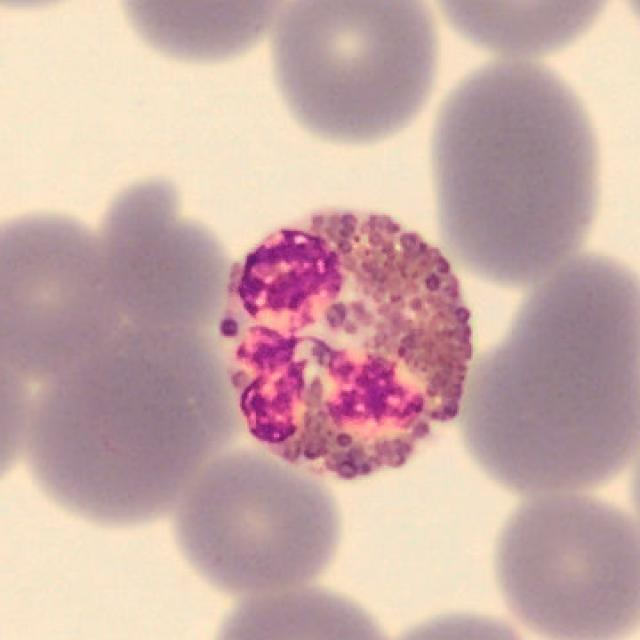Eosinofilo: (228, 210, 475, 482)
